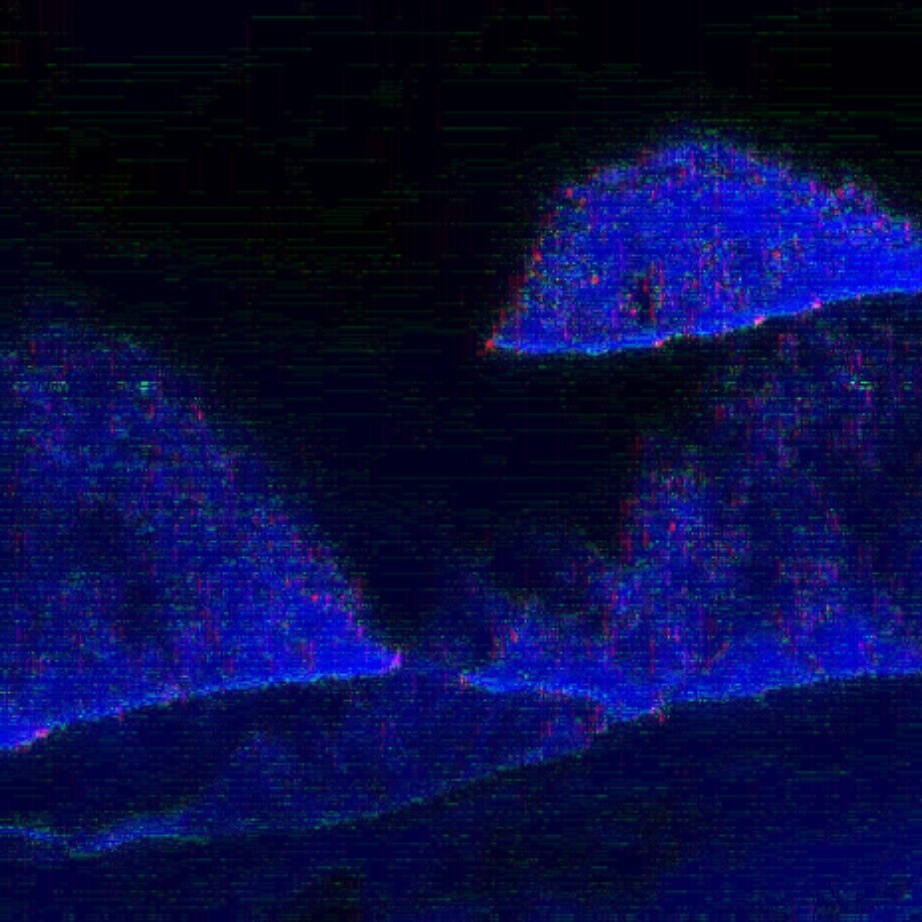rip_current: (84, 163, 653, 678)
